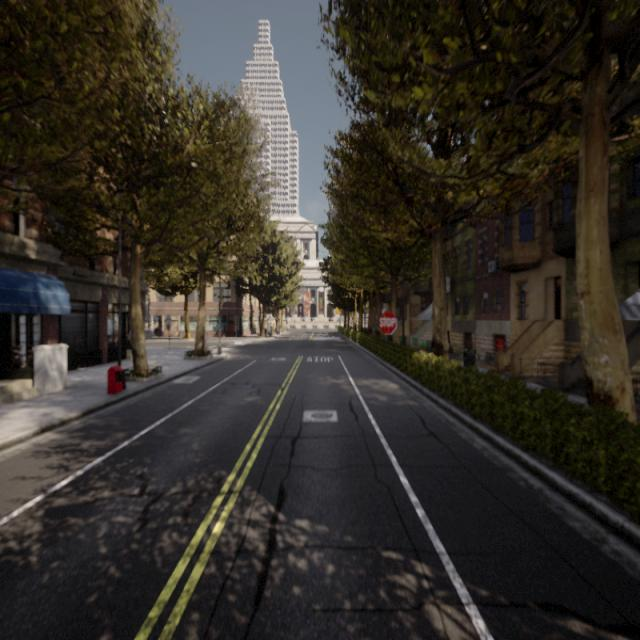stop sign: (376, 305, 399, 337)
